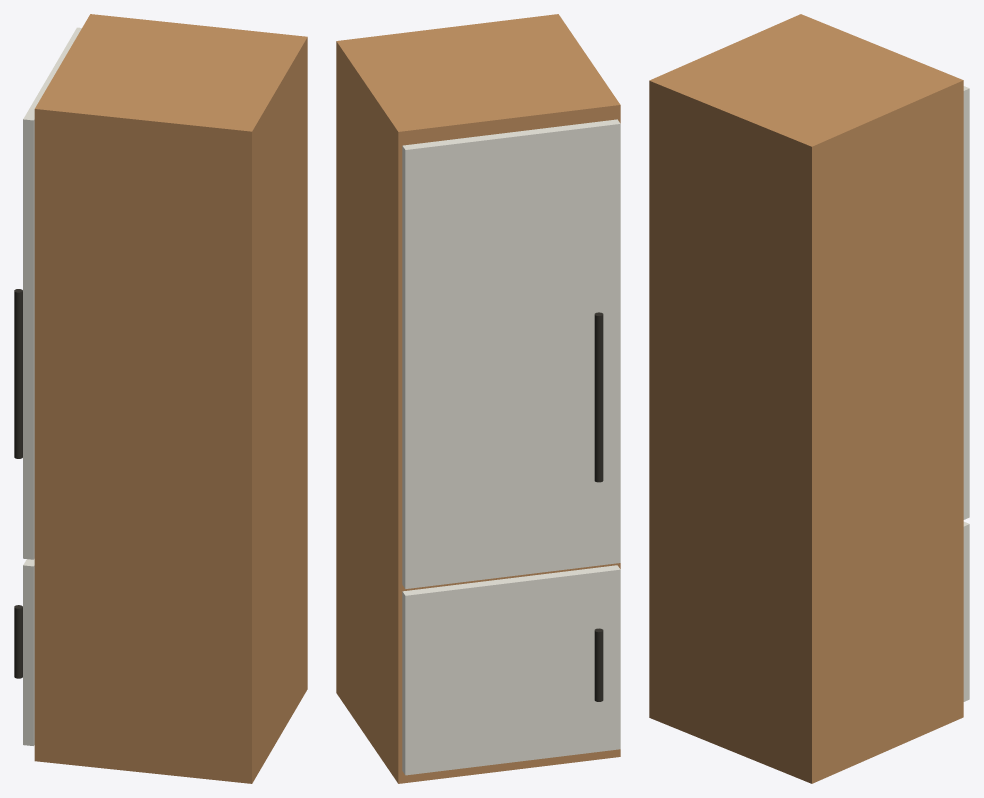
Rendered from kitchen-refrigerator.gltf.
3 views of the same model, side by side, from view 1: azimuth 30°, elevation 25°; view 2: azimuth 150°, elevation 25°; view 3: azimuth 270°, elevation 25° (orthographic). The views are drawn at different scales.
Visible parts, largest first — view 1: Integrated refrigerator carcass, Refrigerator door front, Refrigerator freezer front, Refrigerator stainless pull (×2); view 2: Refrigerator door front, Integrated refrigerator carcass, Refrigerator freezer front, Refrigerator stainless pull (×2); view 3: Integrated refrigerator carcass, Refrigerator door front, Refrigerator freezer front.
Part boxes in pixels (<box>): Integrated refrigerator carcass: <box>34,14,307,783</box>; Refrigerator door front: <box>23,27,81,559</box>; Refrigerator freezer front: <box>23,559,34,745</box>; Refrigerator stainless pull (×2): <box>14,289,22,678</box>; Refrigerator door front: <box>402,119,620,588</box>; Integrated refrigerator carcass: <box>336,14,620,783</box>; Refrigerator freezer front: <box>402,565,620,775</box>; Refrigerator stainless pull (×2): <box>594,312,603,701</box>; Integrated refrigerator carcass: <box>649,14,963,783</box>; Refrigerator door front: <box>963,86,969,519</box>; Refrigerator freezer front: <box>963,521,969,701</box>.
Bounding box in the file's own units: 0.8947 × 1.96 × 0.894.
